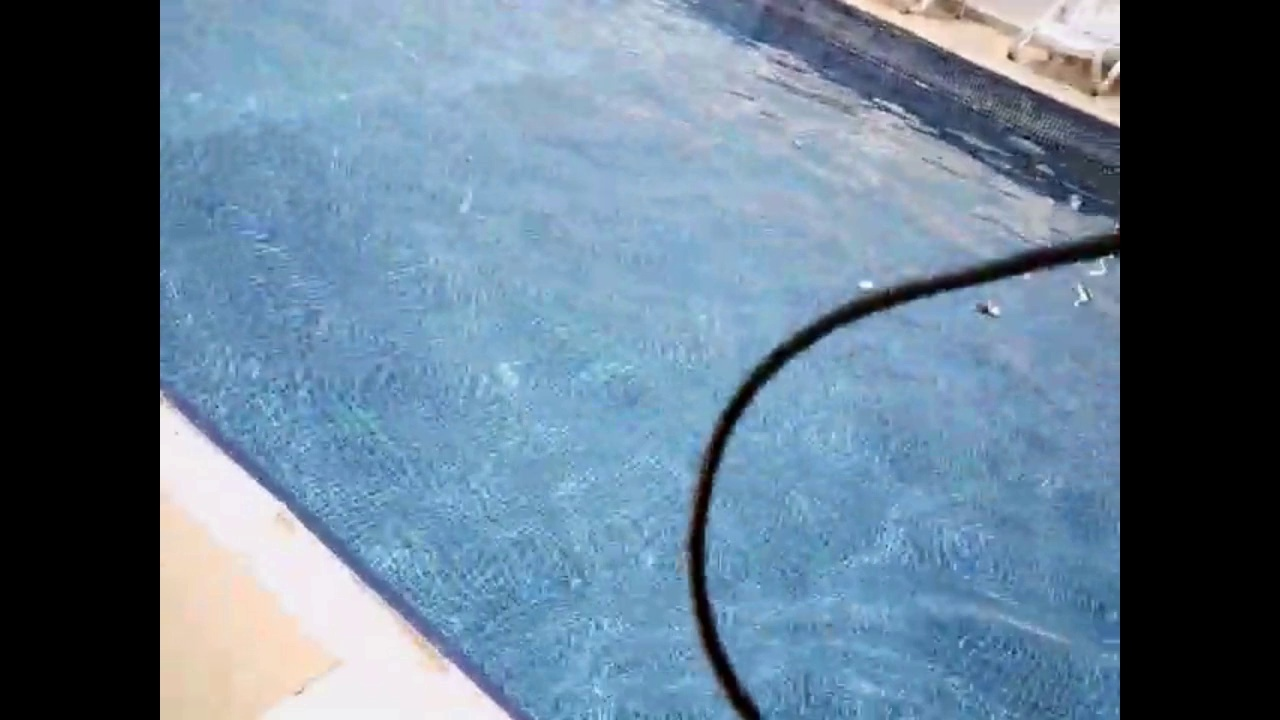debris: (971, 292, 1006, 323), (1066, 187, 1085, 212)
